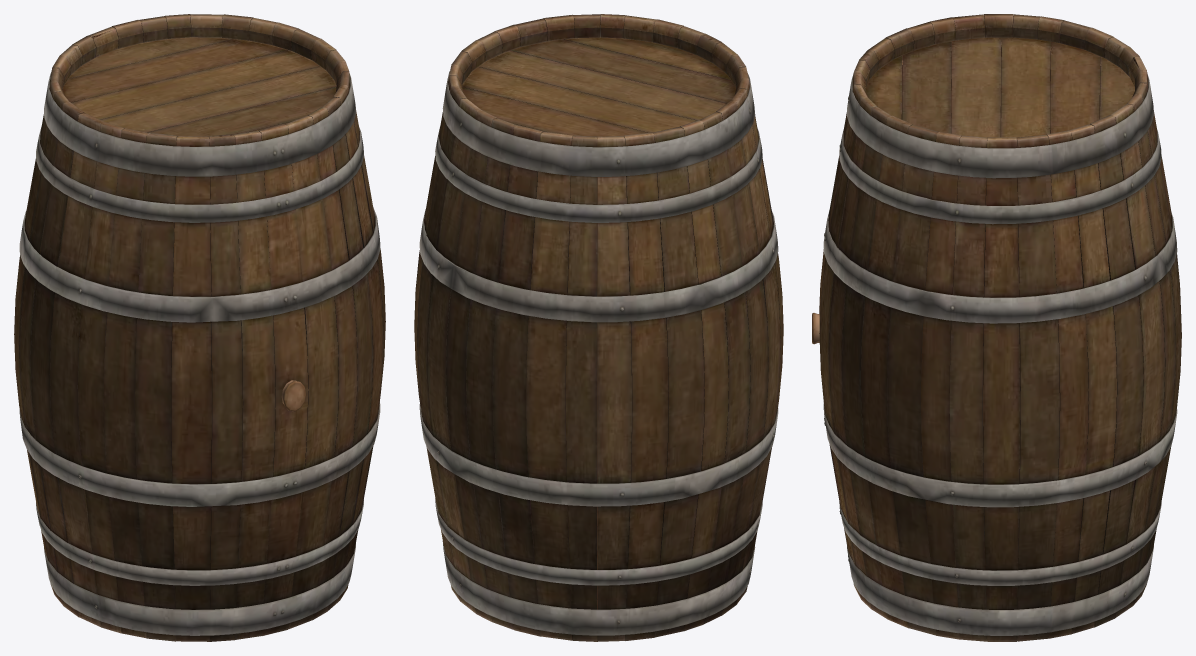
Rendered from wine_barrel_01_lod1.glb.
3 renders of one model, left to right at view 1: azimuth 30°, elevation 25°; view 2: azimuth 150°, elevation 25°; view 3: azimuth 270°, elevation 25°, orthographic.
Parts seen in each view (by area): view 1: wine_barrel_01, wine_barrel_01_Lid, wine_barrel_01_bung; view 2: wine_barrel_01, wine_barrel_01_Lid; view 3: wine_barrel_01, wine_barrel_01_Lid.
Part boxes in pixels (left/top/right/bottom): wine_barrel_01: left=14, top=14, right=385, bottom=641; wine_barrel_01_Lid: left=63, top=37, right=336, bottom=136; wine_barrel_01_bung: left=281, top=380, right=305, bottom=411; wine_barrel_01: left=414, top=14, right=783, bottom=641; wine_barrel_01_Lid: left=462, top=37, right=735, bottom=138; wine_barrel_01: left=819, top=14, right=1181, bottom=641; wine_barrel_01_Lid: left=866, top=37, right=1134, bottom=137.
Size of the model in its own units: 0.6 by 0.8985 by 0.6.
1 material, 1 textured.
